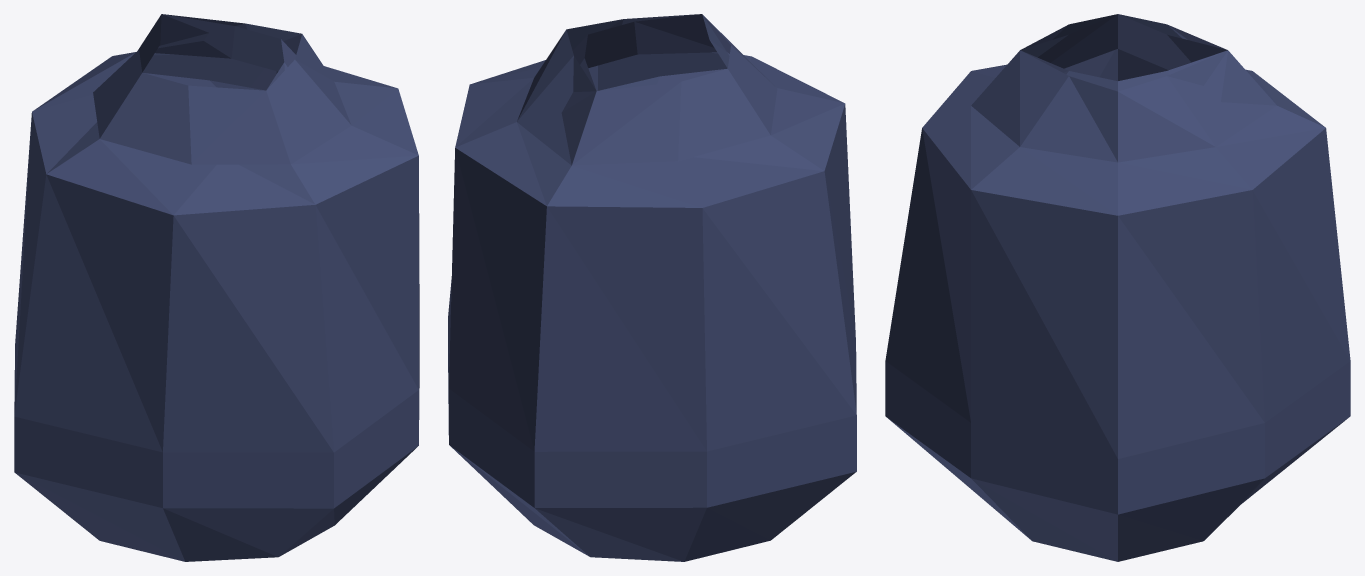
Rendered from inv_specimen_jar.obj.
The picture shows the model from 3 angles, left to right: view 1: azimuth 30°, elevation 25°; view 2: azimuth 150°, elevation 25°; view 3: azimuth 270°, elevation 25°; orthographic projection.
Bounding box in the file's own units: 0.2969 × 0.3203 × 0.2969.
